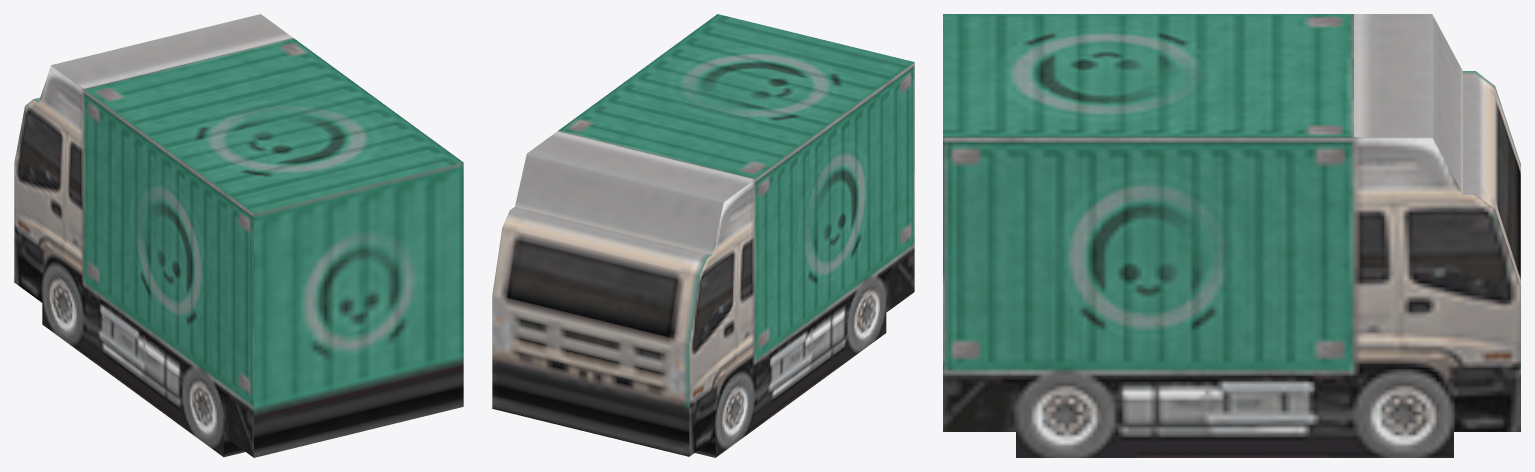
Rendered from truck-green.opt.glb.
3 views of the same model, side by side, from view 1: azimuth 30°, elevation 25°; view 2: azimuth 150°, elevation 25°; view 3: azimuth 270°, elevation 25° (orthographic). The views are drawn at different scales.
Size of the model in its own units: 0.83 by 1.01 by 1.64.
Materials: 1 (1 with a texture image).
